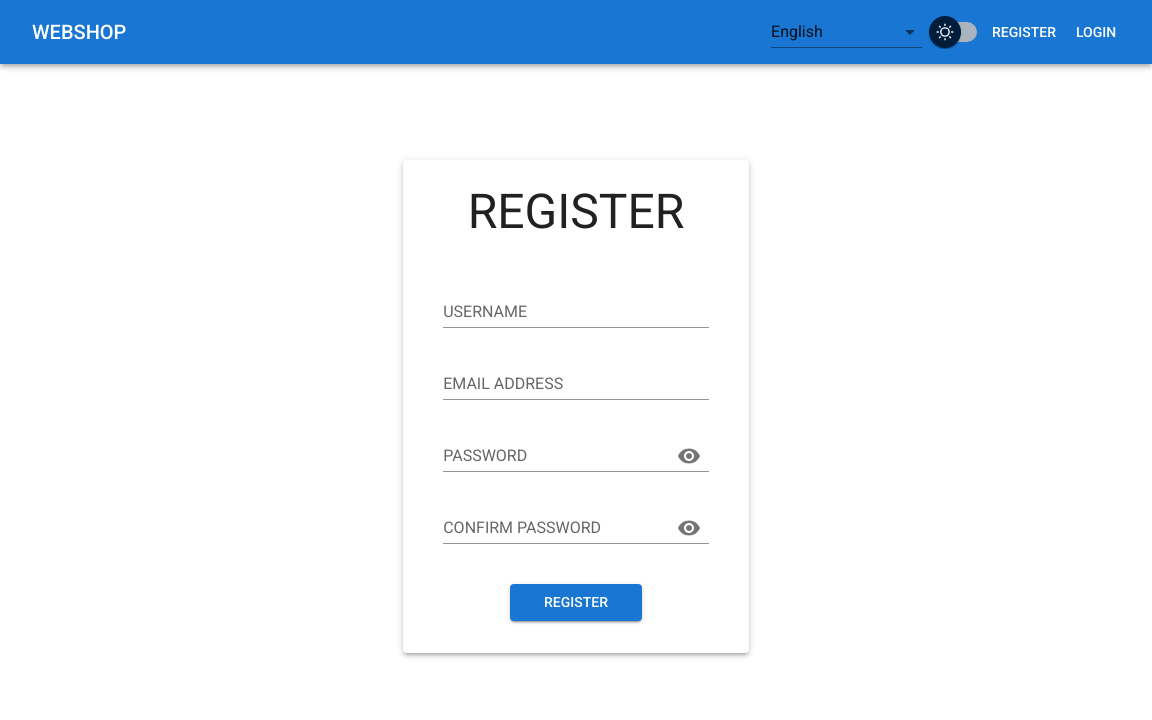
Register page test › should show appropriate error message when username is less than 3 characters
Type "a" into the field with id "register-username" at {"x": 576, "y": 312}, box [443,296,709,328]
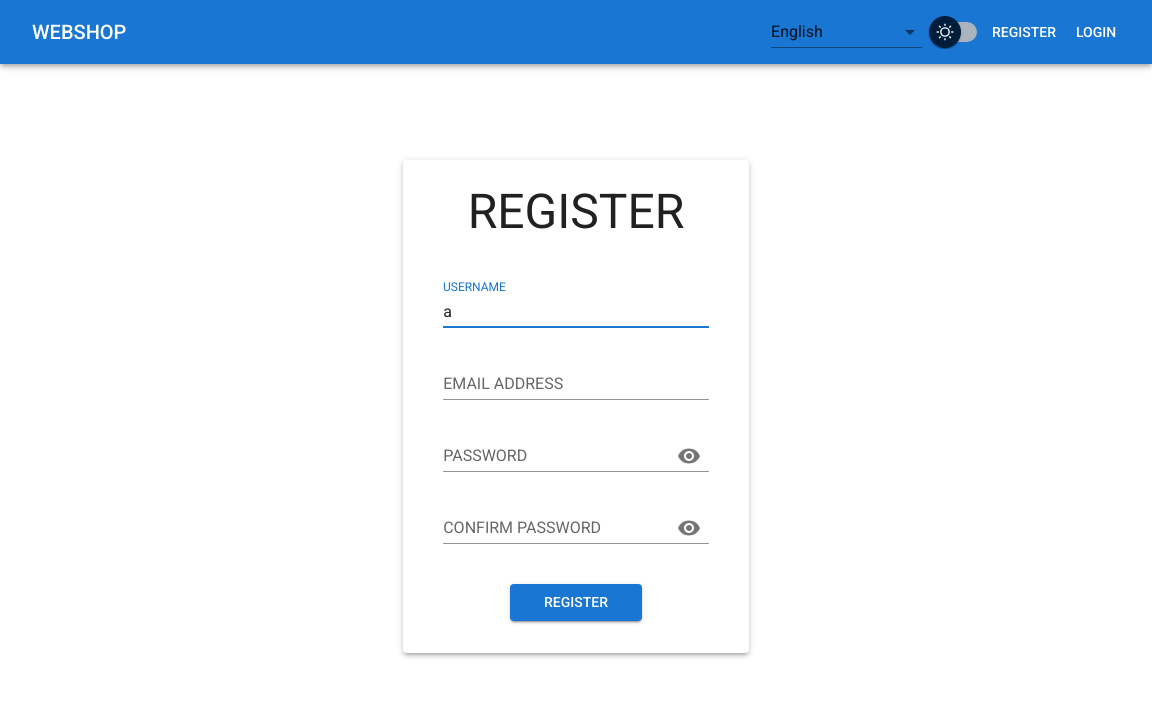
Leave the field with id "register-username", box [443,296,709,328]
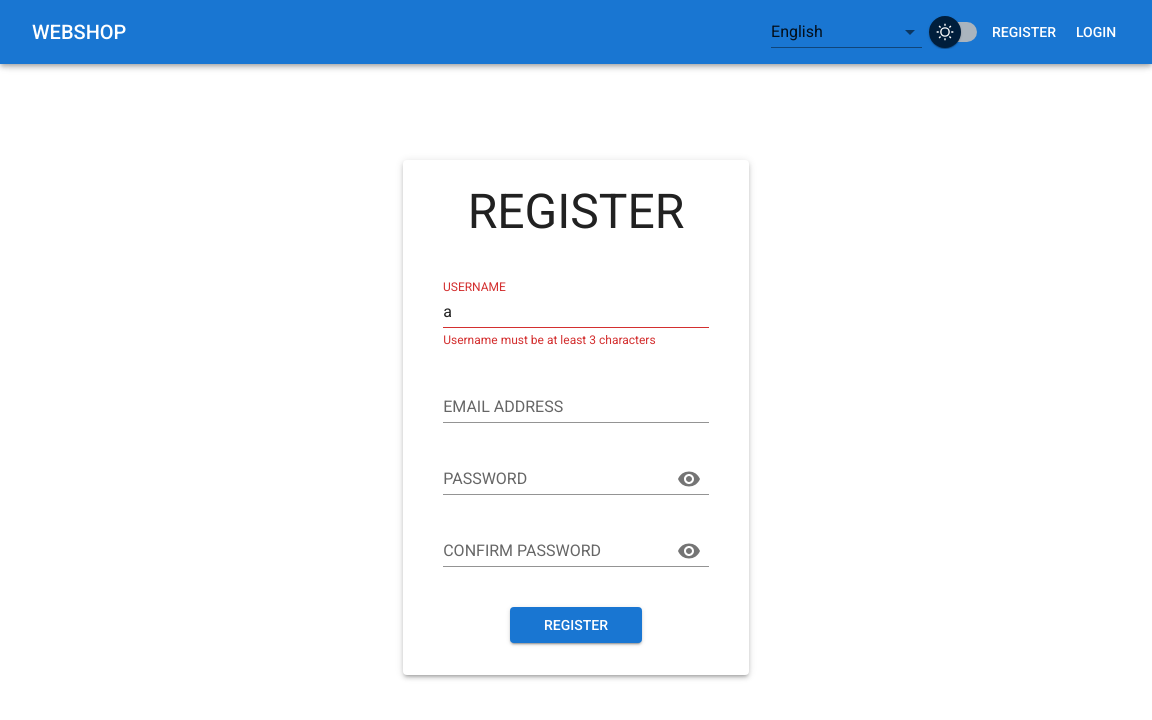
Expected: the text "Username must be at least 3 characters" is shown, [443,333,656,347]
